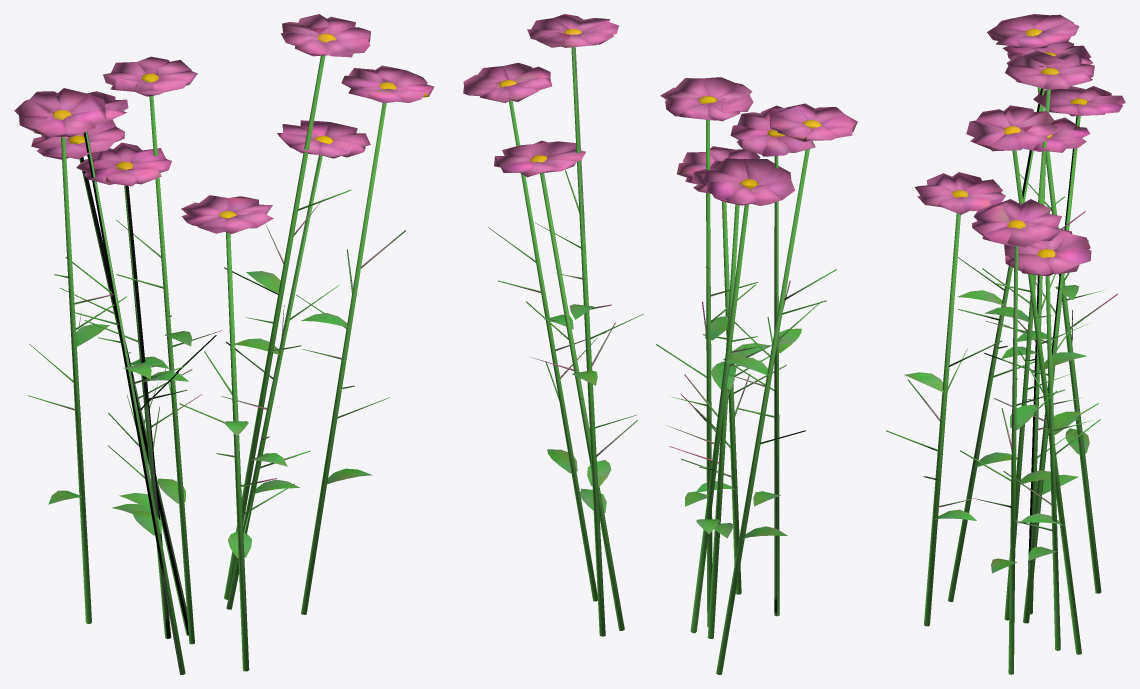
File: crop_cosmos.glb
3 views of the same model, side by side, from view 1: azimuth 30°, elevation 25°; view 2: azimuth 150°, elevation 25°; view 3: azimuth 270°, elevation 25° (orthographic). The views are drawn at different scales.
Parts seen in each view (by area): view 1: crop_cosmos, fruit; view 2: crop_cosmos, fruit; view 3: crop_cosmos, fruit.
Part boxes in pixels (x1,y1,x2,y2): crop_cosmos: (28,33,405,674); fruit: (14,14,434,233); crop_cosmos: (488,28,836,674); fruit: (463,14,857,205); crop_cosmos: (886,28,1117,674); fruit: (915,14,1125,276).
Bounding box in the file's own units: 0.2885 × 0.3995 × 0.1548.
Materials: 1 (1 with a texture image).
